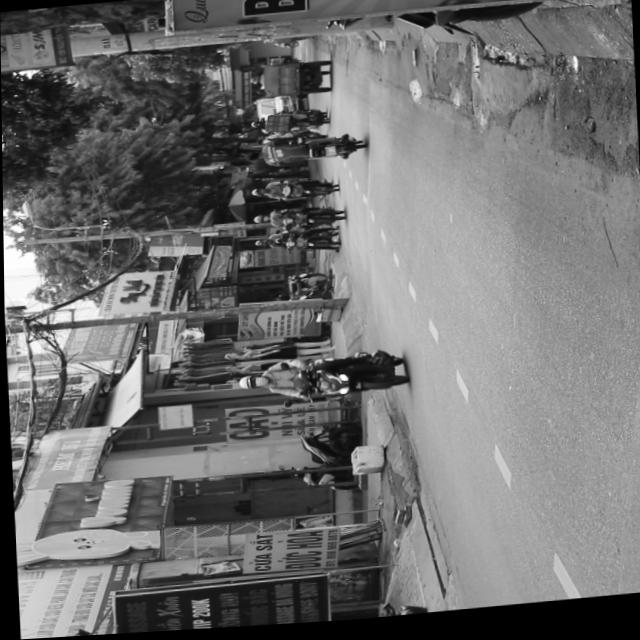helmet: (235, 376, 264, 393)
licenseplate: (233, 349, 409, 413)
